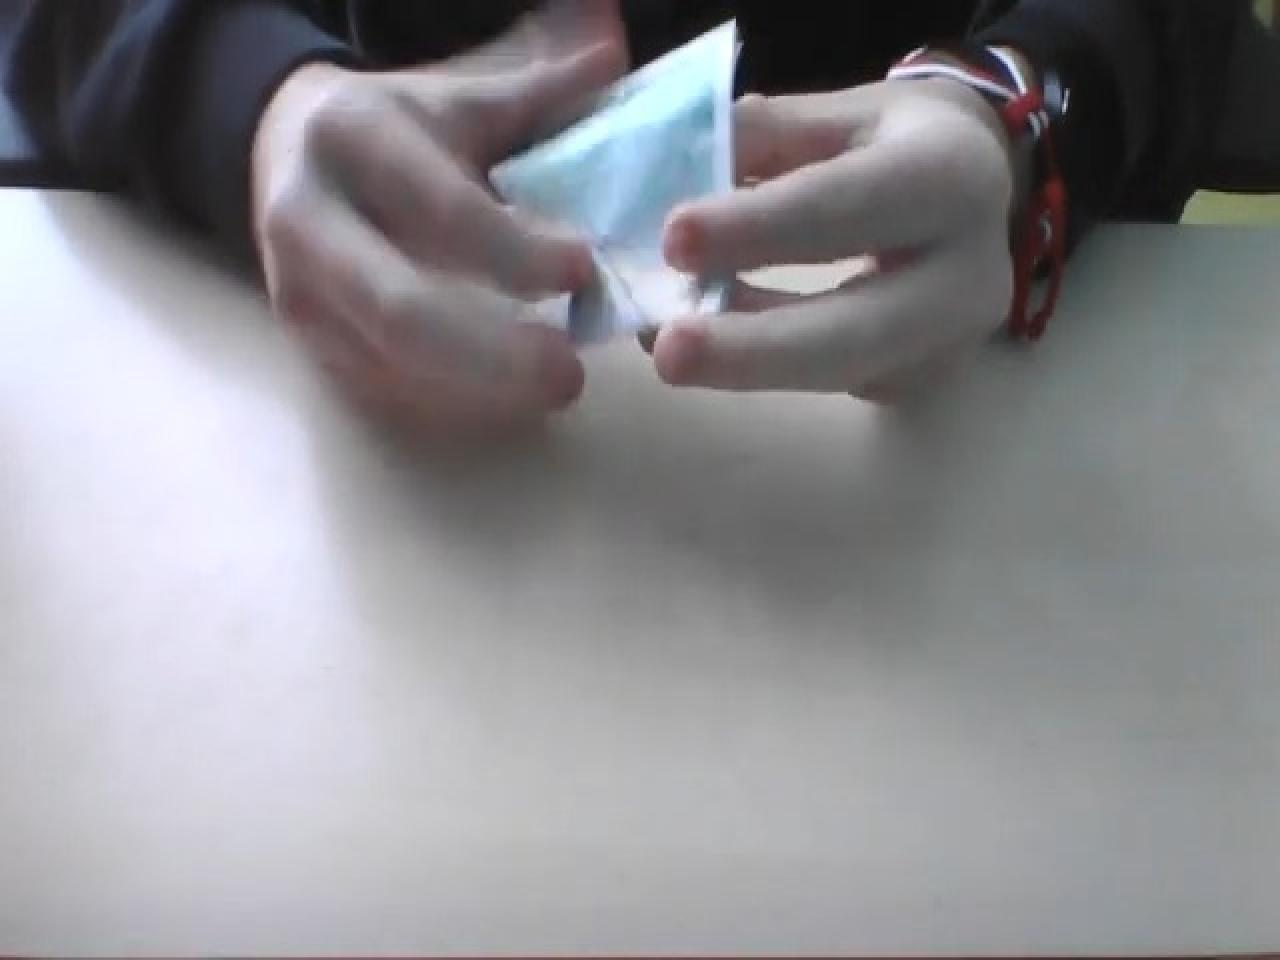100leva: (486, 16, 740, 355)
